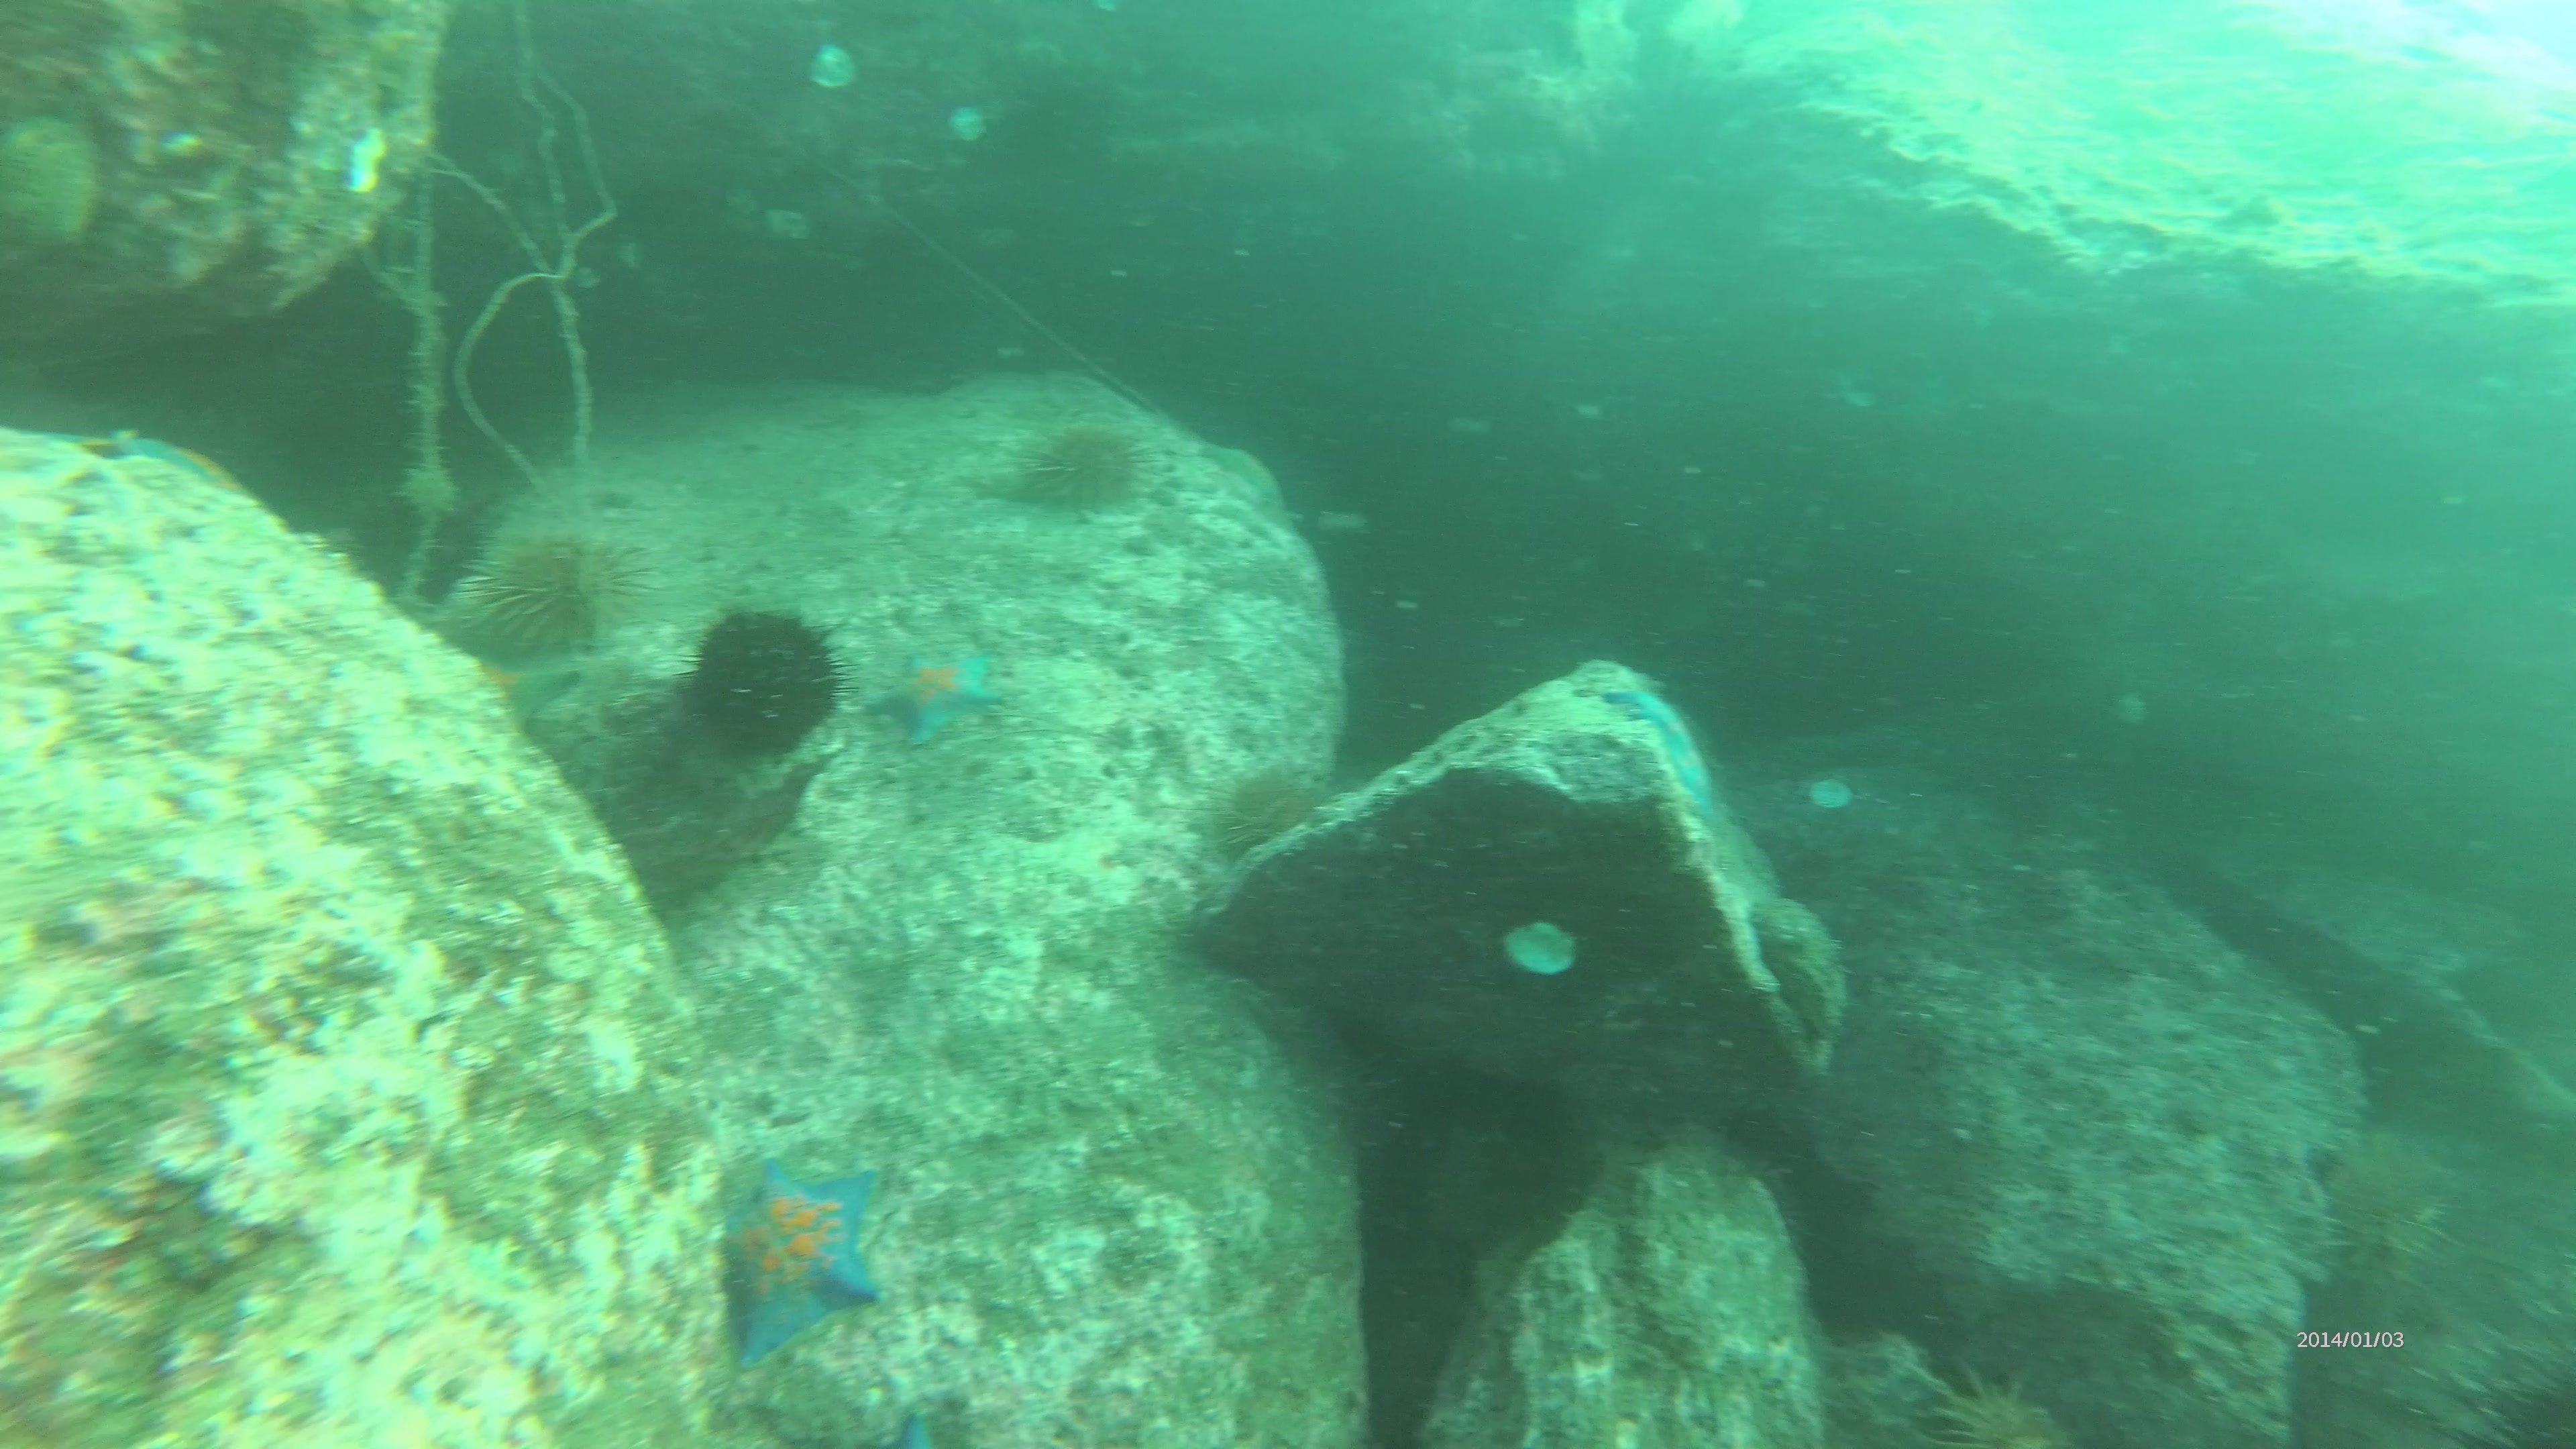echinus: (688, 602, 842, 761), (474, 538, 633, 648), (2321, 1141, 2438, 1283), (1923, 1369, 2065, 1449), (1026, 425, 1138, 517), (1215, 775, 1325, 858), (2473, 1376, 2576, 1449)
starfish: (722, 1164, 888, 1371), (1610, 676, 1721, 819), (874, 655, 1005, 748)
